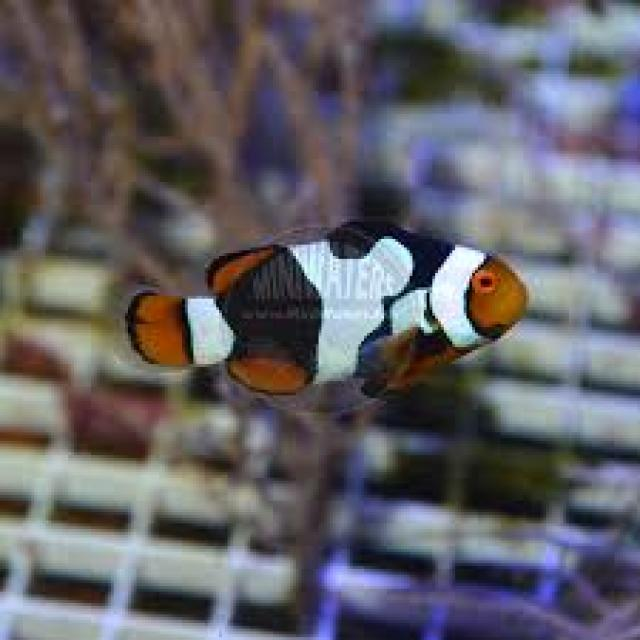Amphiprion-percula: (118, 146, 556, 421)
